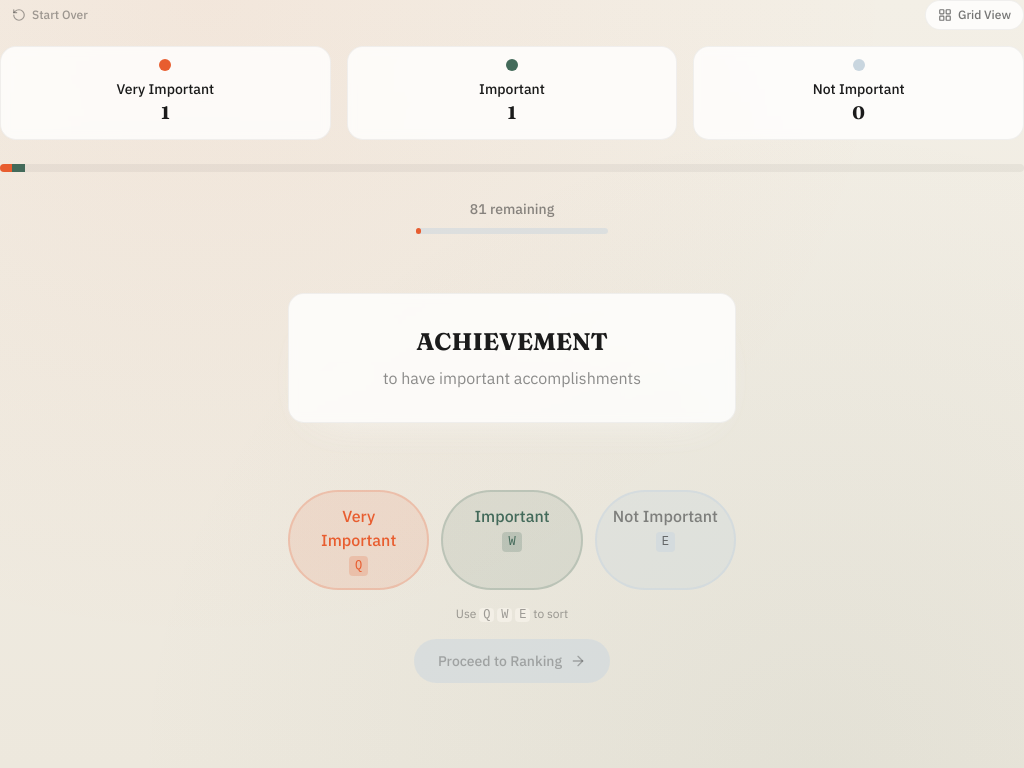
Test: SortingPhase › search in grid view › shows clear button when search has text
This screenshot has width=1024, height=768.
Click the button with aria-label "Switch to grid view" at (974, 15), box top-left (925, 0), bottom-right (1023, 30)
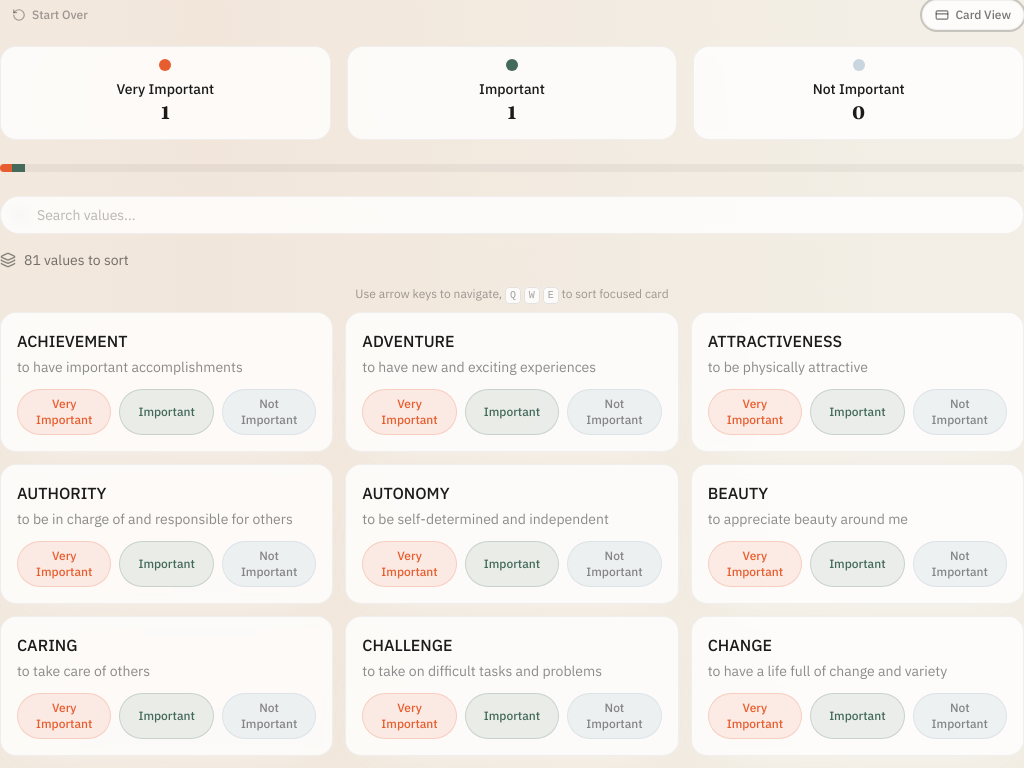
Type "test" into the field named "Search values by name or description" at (512, 215), box top-left (0, 196), bottom-right (1023, 234)
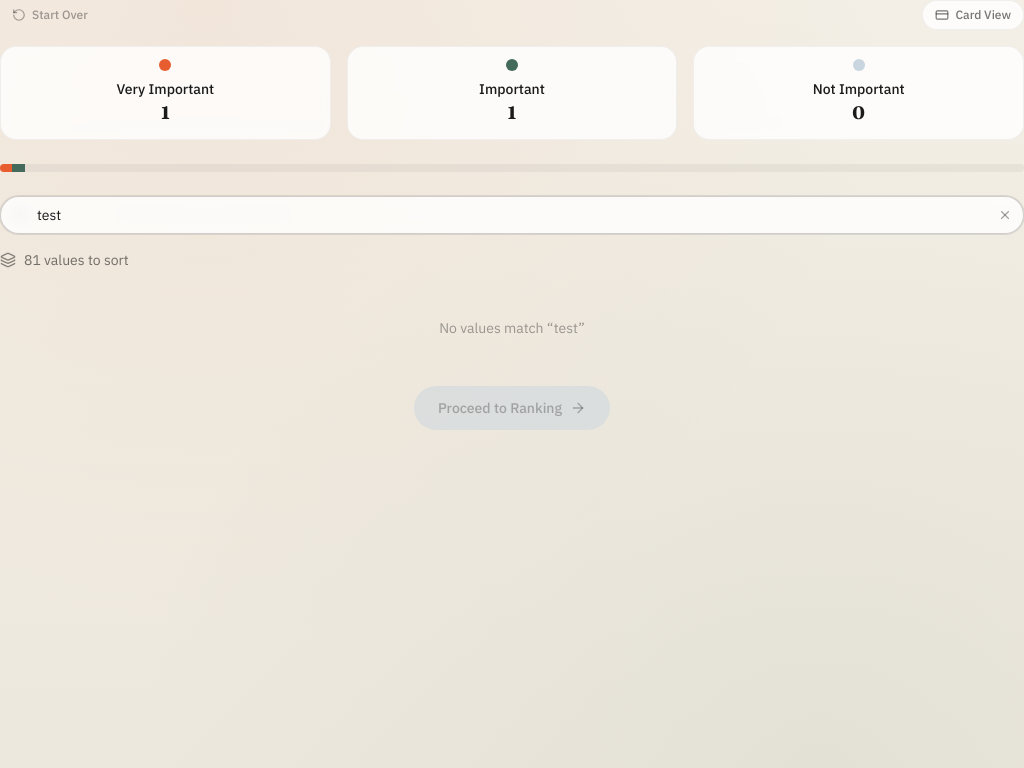
Expected: the button named "Clear search" is shown, top-left (998, 208), bottom-right (1012, 222)
